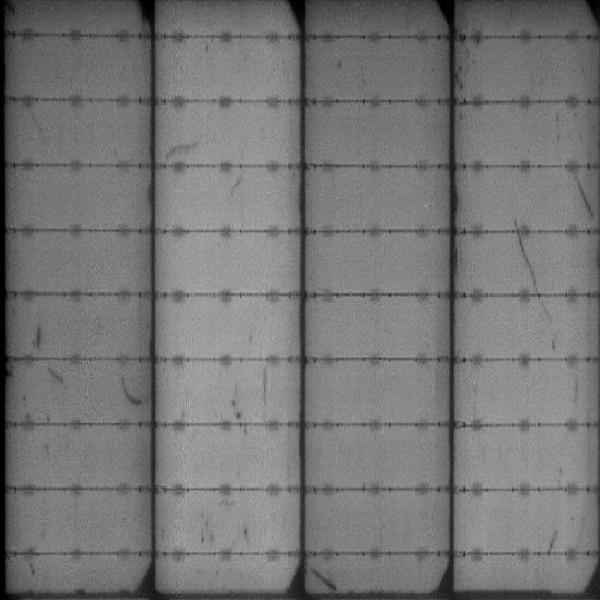scratch: (516, 237, 532, 291), (307, 568, 342, 589), (578, 182, 594, 222), (120, 380, 142, 408), (31, 324, 50, 352), (44, 366, 68, 388), (164, 144, 198, 159), (260, 360, 268, 403), (549, 528, 556, 553)
